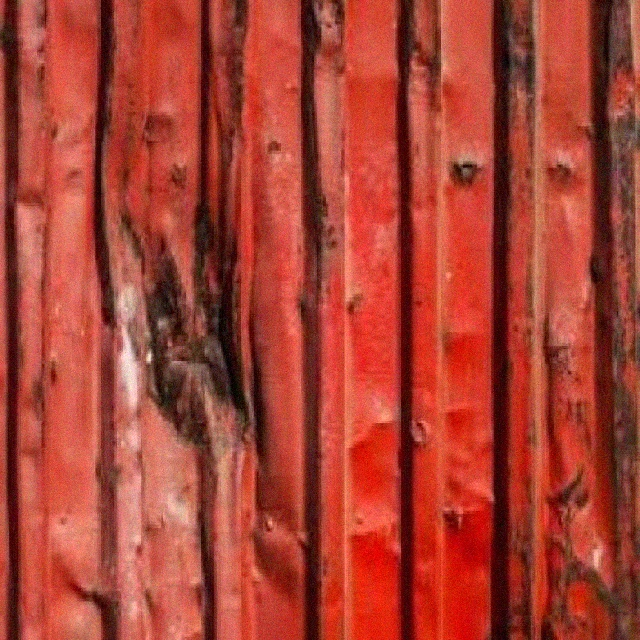Dent: (95, 100, 272, 484), (250, 495, 310, 612), (52, 558, 126, 640), (347, 496, 403, 558), (13, 183, 46, 244)
Rusty: (144, 200, 253, 474), (607, 1, 640, 640), (486, 475, 598, 640), (503, 163, 541, 454), (546, 467, 618, 620), (300, 1, 329, 303), (540, 310, 594, 455), (95, 3, 118, 330), (500, 1, 536, 159), (221, 1, 250, 183), (402, 1, 442, 113), (36, 1, 52, 101), (253, 357, 264, 457), (452, 158, 486, 187), (330, 1, 345, 59), (587, 250, 604, 287), (555, 153, 578, 175)
